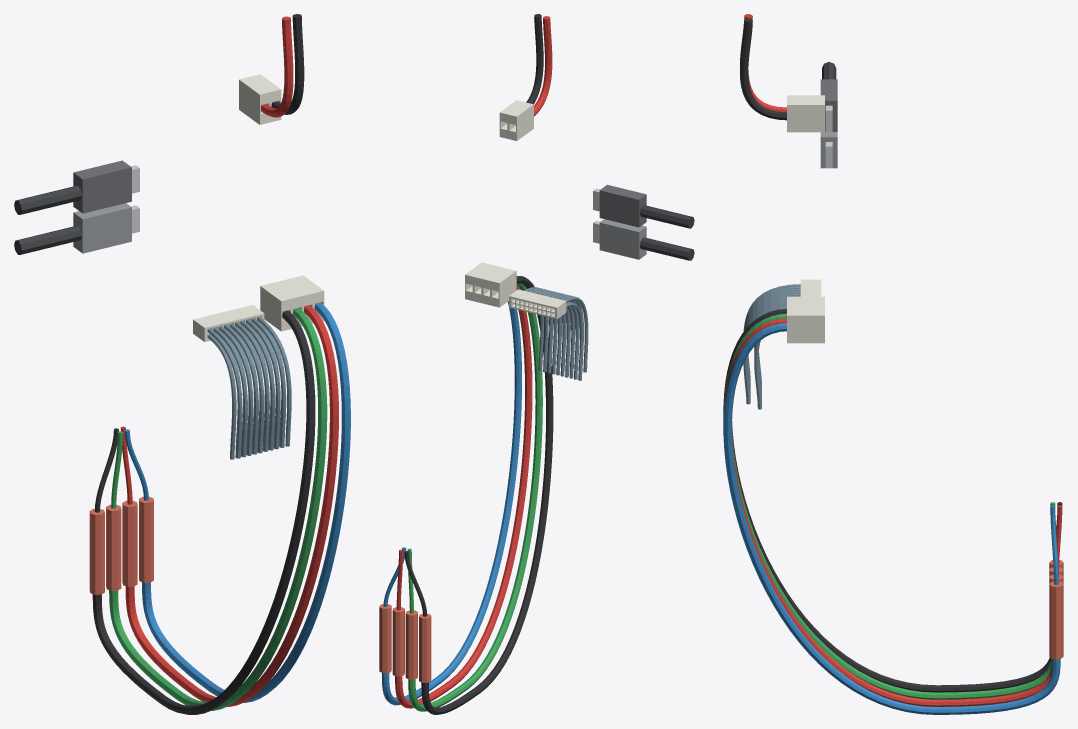
The model's file is harness-proposal.glb.
The picture shows the model from 3 angles, left to right: view 1: azimuth 30°, elevation 25°; view 2: azimuth 150°, elevation 25°; view 3: azimuth 270°, elevation 25°; orthographic projection. The views are drawn at different scales.
Visible parts, largest first — view 1: J2 cavity 1 black MOTOR_A1_OUT, J2 cavity 2 green MOTOR_A2, J2 cavity 3 red MOTOR_B1_OUT, J2 cavity 4 blue MOTOR_B2, J1 generic USB plug envelope, J10 generic USB plug envelope, J2 VHR-4N nominal housing, J3 VHR-2N nominal housing, Insulated splice 3 envelope, Insulated splice 1 envelope, Insulated splice 2 envelope, Insulated splice 4 envelope (+16 smaller); view 2: J2 cavity 2 green MOTOR_A2, J2 cavity 3 red MOTOR_B1_OUT, J2 cavity 1 black MOTOR_A1_OUT, J2 cavity 4 blue MOTOR_B2, J2 VHR-4N nominal housing, J1 generic USB plug envelope, J10 generic USB plug envelope, J3 VHR-2N nominal housing, J7 PHDR-20VS nominal housing, Insulated splice 3 envelope, Insulated splice 4 envelope, Insulated splice 2 envelope (+5 smaller); view 3: J2 cavity 4 blue MOTOR_B2, J2 cavity 3 red MOTOR_B1_OUT, J2 cavity 2 green MOTOR_A2, J2 cavity 1 black MOTOR_A1_OUT, J2 VHR-4N nominal housing, J3 VHR-2N nominal housing, Insulated splice 4 envelope, J3 cavity 2 external lead, J1 generic USB plug envelope.
Part boxes in pixels (x1,y1,x2,y2): J2 cavity 1 black MOTOR_A1_OUT: (92,310,315,714); J2 cavity 2 green MOTOR_A2: (109,308,327,710); J2 cavity 3 red MOTOR_B1_OUT: (125,305,338,706); J2 cavity 4 blue MOTOR_B2: (142,302,350,702); J1 generic USB plug envelope: (73,160,131,213); J10 generic USB plug envelope: (73,203,131,253); J2 VHR-4N nominal housing: (260,275,324,331); J3 VHR-2N nominal housing: (239,74,281,124); Insulated splice 3 envelope: (122,500,137,586); Insulated splice 1 envelope: (89,508,104,594); Insulated splice 2 envelope: (106,504,121,590); Insulated splice 4 envelope: (139,496,153,582); J2 cavity 2 green MOTOR_A2: (408,275,542,711); J2 cavity 3 red MOTOR_B1_OUT: (395,285,532,708); J2 cavity 1 black MOTOR_A1_OUT: (421,276,553,714); J2 cavity 4 blue MOTOR_B2: (382,301,521,705); J2 VHR-4N nominal housing: (465,262,516,307); J1 generic USB plug envelope: (599,184,646,227); J10 generic USB plug envelope: (599,219,646,259); J3 VHR-2N nominal housing: (499,100,533,140); J7 PHDR-20VS nominal housing: (509,289,566,319); Insulated splice 3 envelope: (392,607,404,676); Insulated splice 4 envelope: (379,604,391,673); Insulated splice 2 envelope: (405,610,417,679); J2 cavity 4 blue MOTOR_B2: (723,323,1060,714); J2 cavity 3 red MOTOR_B1_OUT: (723,318,1051,706); J2 cavity 2 green MOTOR_A2: (723,313,1051,699); J2 cavity 1 black MOTOR_A1_OUT: (723,309,1050,692); J2 VHR-4N nominal housing: (787,296,824,343); J3 VHR-2N nominal housing: (787,95,824,132); Insulated splice 4 envelope: (1049,581,1063,659); J3 cavity 2 external lead: (740,18,786,120); J1 generic USB plug envelope: (820,79,837,131).
Size of the model in its own units: 104 by 265 by 119.
